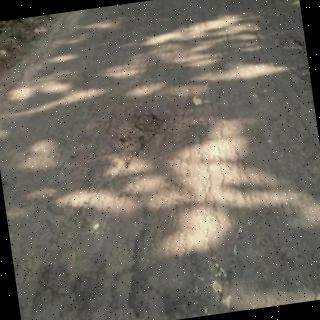pothole: (116, 115, 164, 168), (280, 36, 306, 49)
